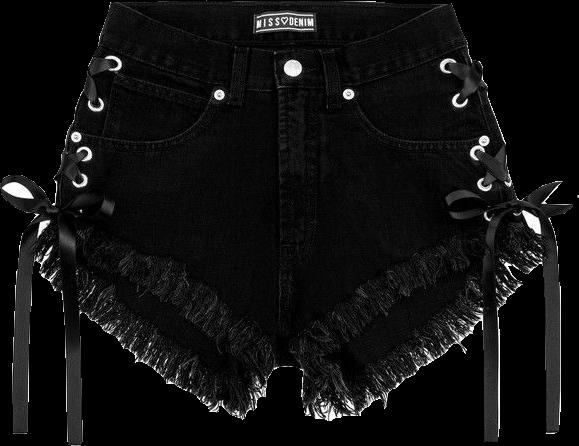Hemline: (51, 214, 527, 372)
Pantleg: (272, 0, 546, 420), (37, 0, 278, 418)
Waistline: (111, 0, 447, 53), (95, 42, 465, 88)
